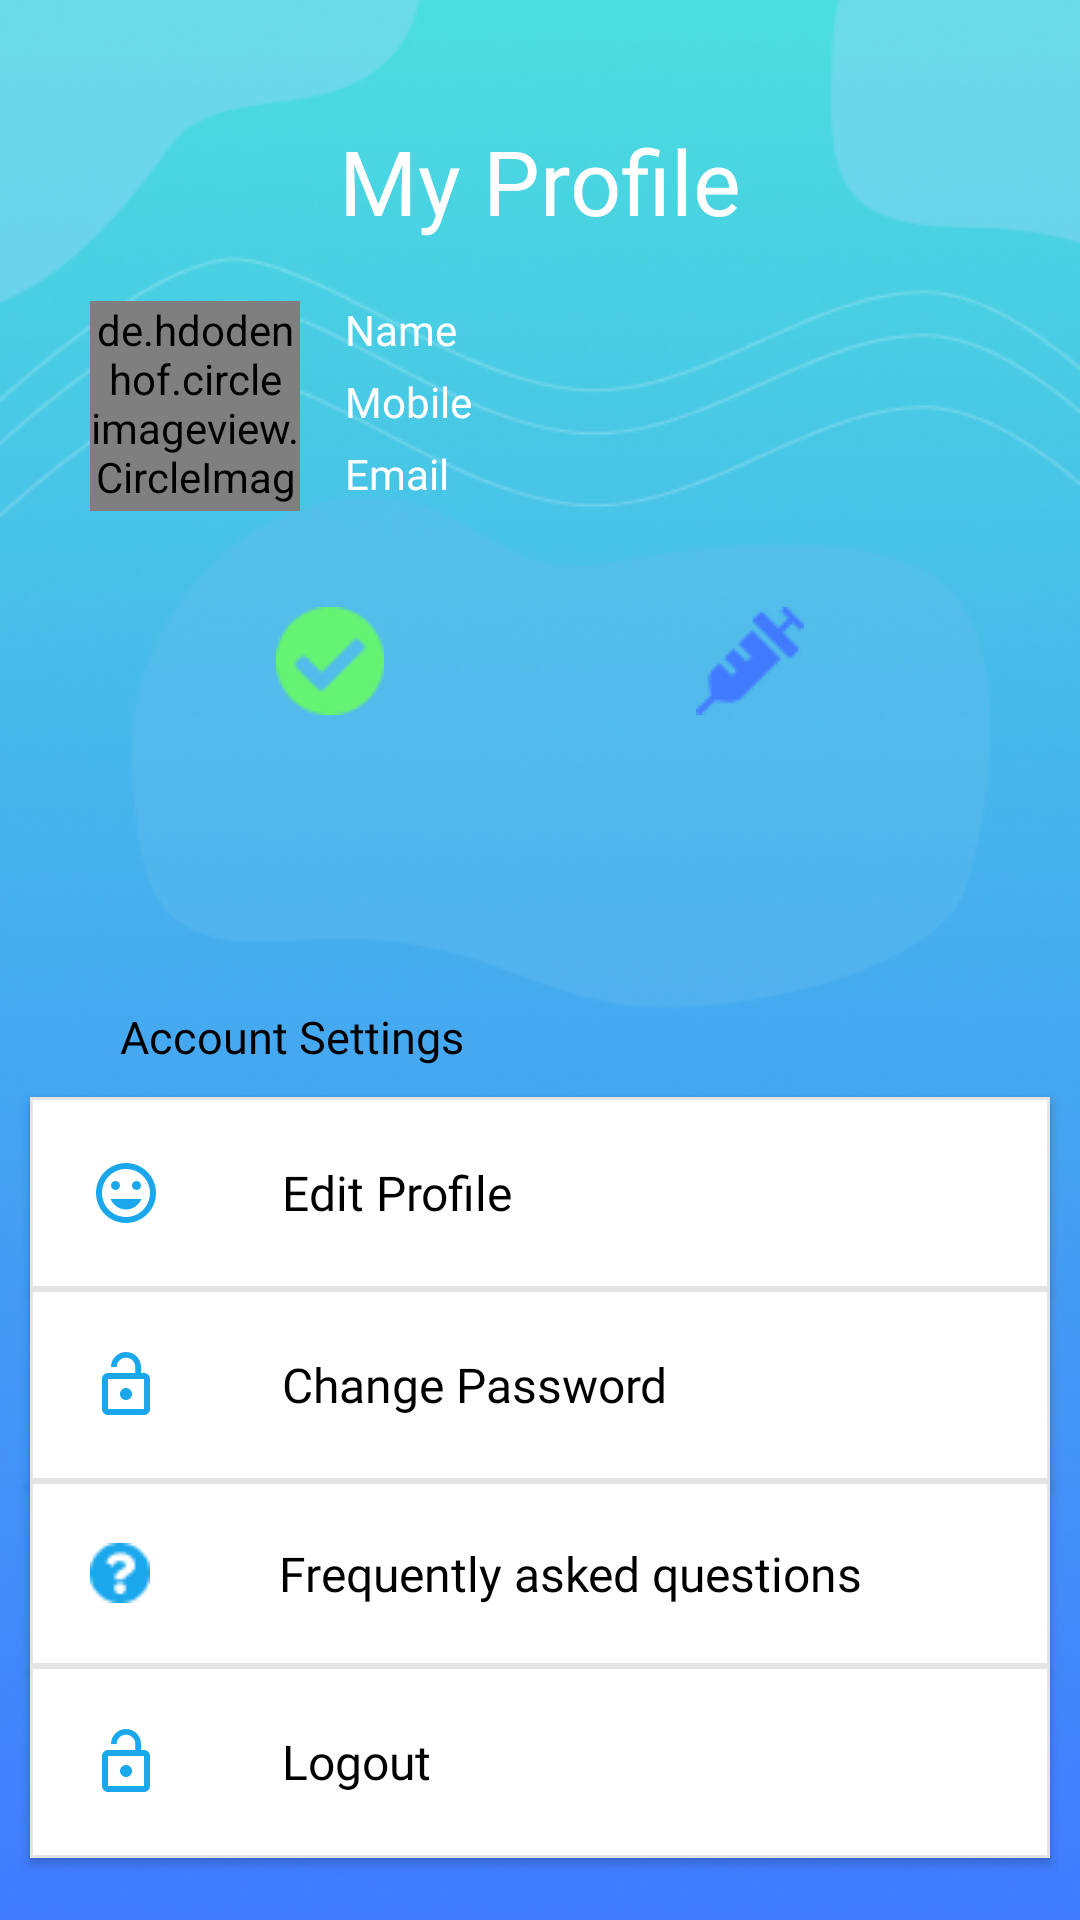

Point at icon controls on the screen. Image size 1080*1920, points as (x,y).
check box: (330,661)
syringe: (750,661)
